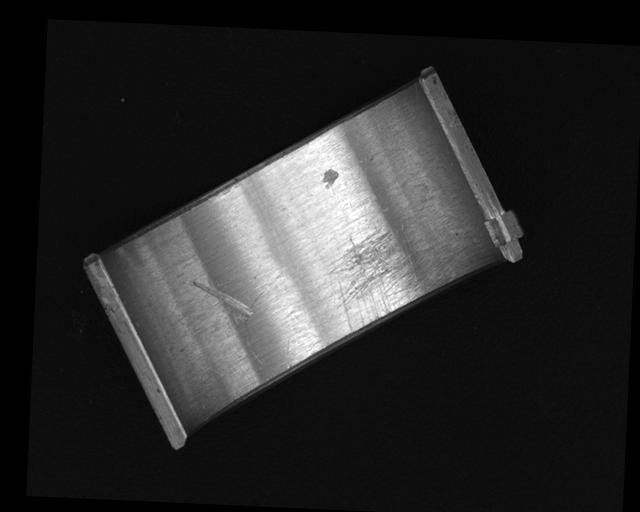bruise: (321, 166, 339, 189)
nick: (189, 279, 254, 323), (242, 286, 269, 367)
scratch: (320, 225, 453, 338)
